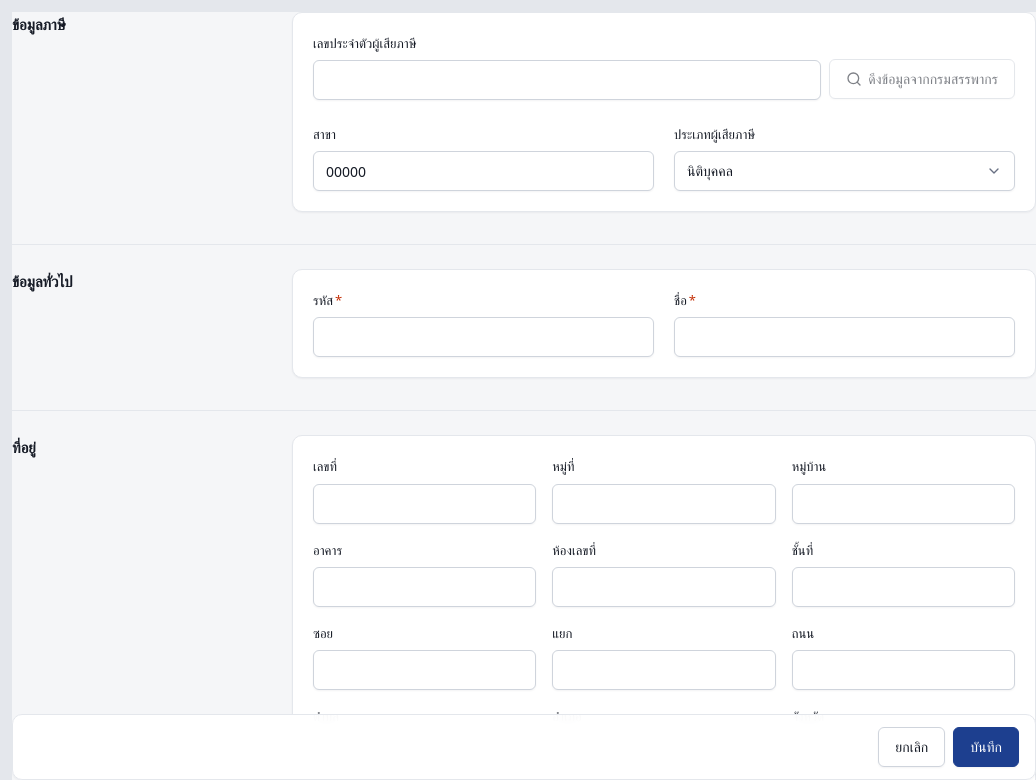
CustomerForm › ไม่พบในฐานข้อมูลผู้จด VAT = แจ้งให้กรอกเอง; เลขไม่ครบ 13 หลัก = ไม่ส่ง
This screenshot has width=1036, height=780.
Step 1. Type "12345" into the field labelled "เลขประจำตัวผู้เสียภาษี" → (567, 80), box [314,61,820,99]
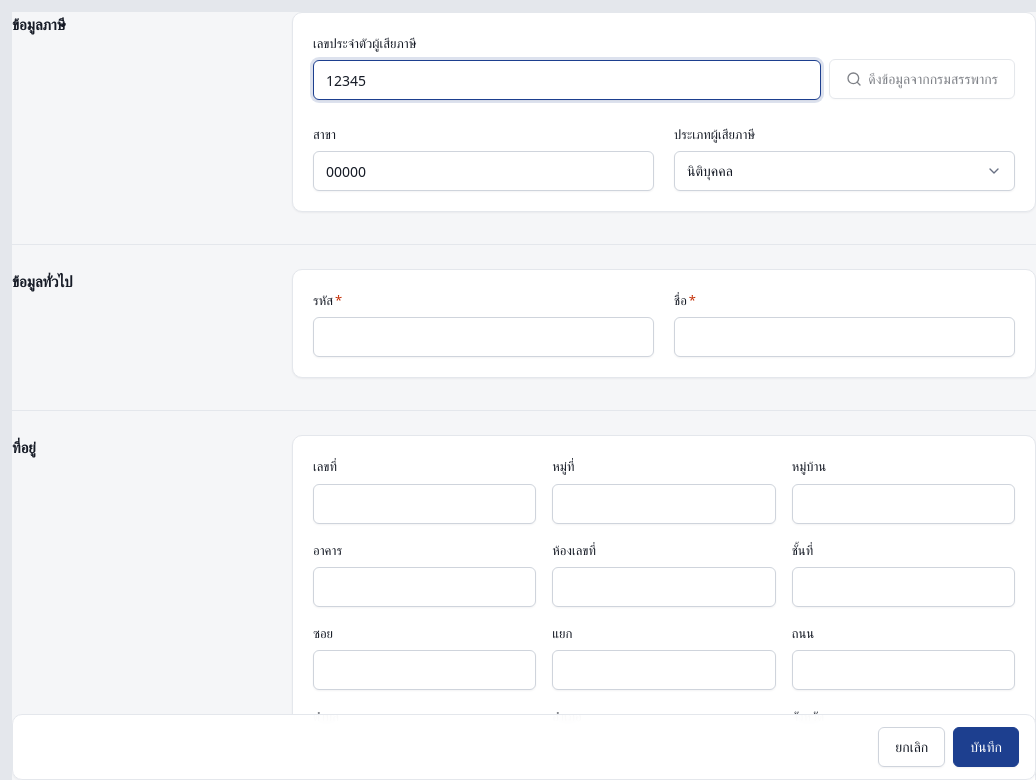
Expected: the button "ดึงข้อมูลจากกรมสรรพากร" is disabled, [829,59,1015,99]
Step 2. Click the button "บันทึก" → (986, 747), box [953,727,1019,767]
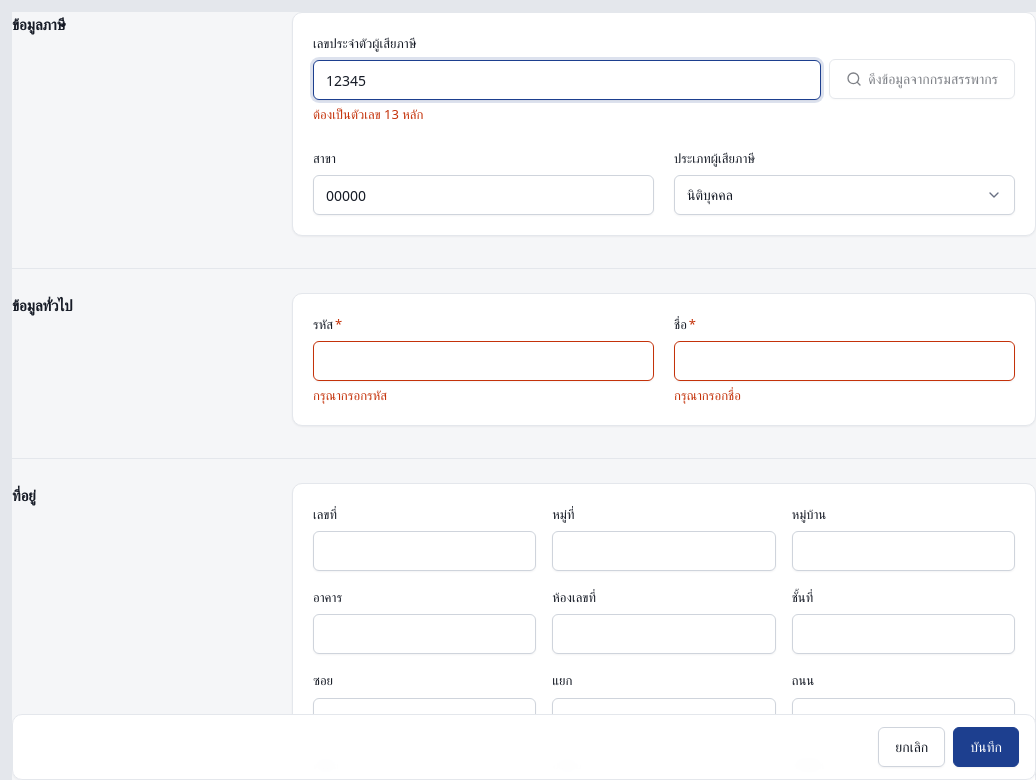
Now the text "ต้องเป็นตัวเลข 13 หลัก" is shown, box [313,105,423,123]
Step 3. Type "67890123" into the field labelled "เลขประจำตัวผู้เสียภาษี" → (567, 80), box [314,61,820,99]
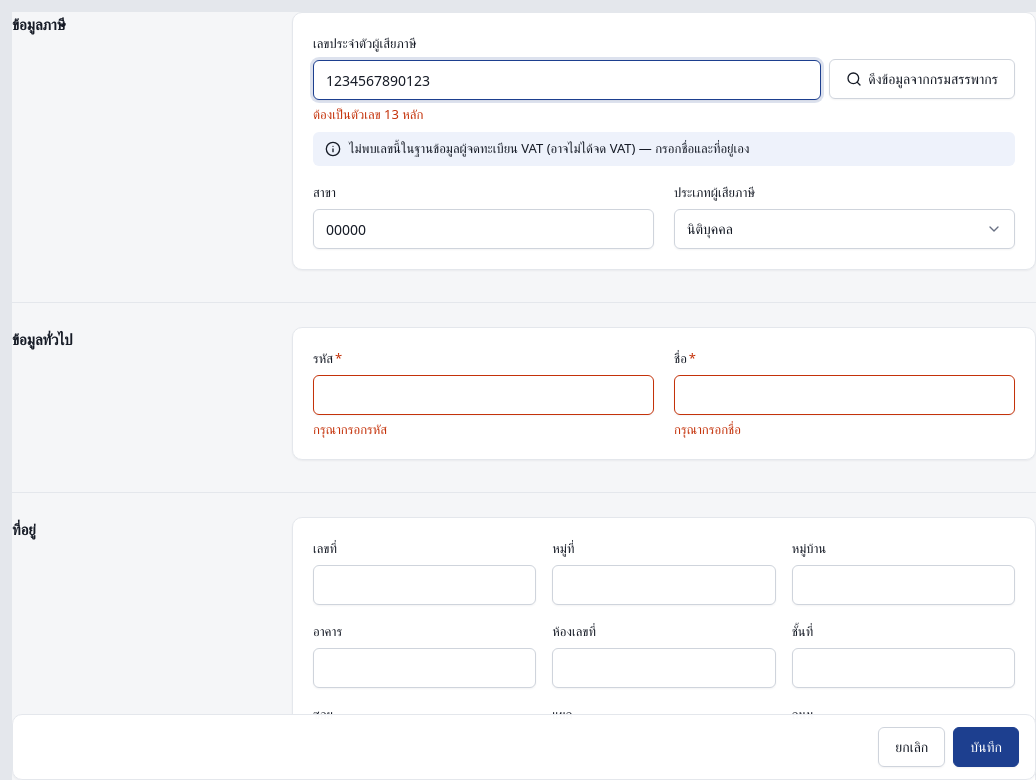
Now the text "ไม่พบเลขนี้ในฐานข้อมูลผู้จดทะเบียน VAT (อาจไม่ได้จด VAT) — กรอกชื่อและที่อยู่เอง" is shown, box [349,140,749,158]
